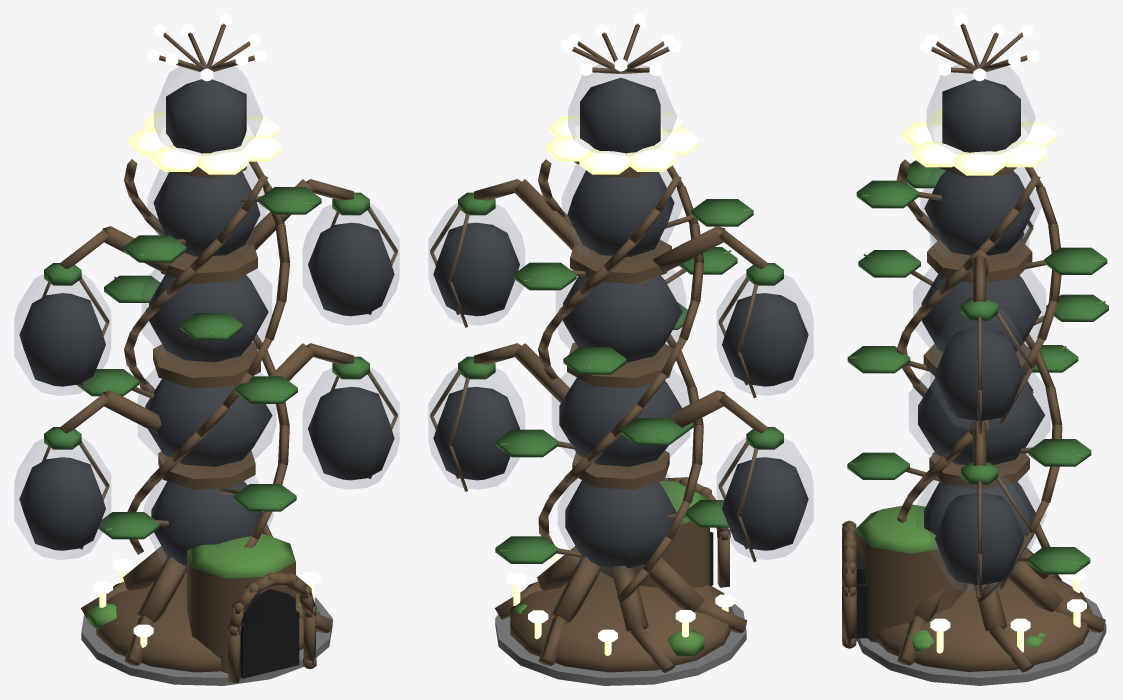
The model's file is BLOOM_Vat_T4.glb.
3 views of the same model, side by side, from view 1: azimuth 30°, elevation 25°; view 2: azimuth 150°, elevation 25°; view 3: azimuth 270°, elevation 25° (orthographic).
Visible parts, largest first — view 1: BLOOM_Vat_T4; view 2: BLOOM_Vat_T4; view 3: BLOOM_Vat_T4.
Boxes of the visible parts, x1,y1,x2,y2 form: BLOOM_Vat_T4: [14, 14, 399, 685]; BLOOM_Vat_T4: [428, 14, 813, 685]; BLOOM_Vat_T4: [842, 14, 1108, 685].
Bounding box in the file's own units: 6 × 9.38 × 3.68.
